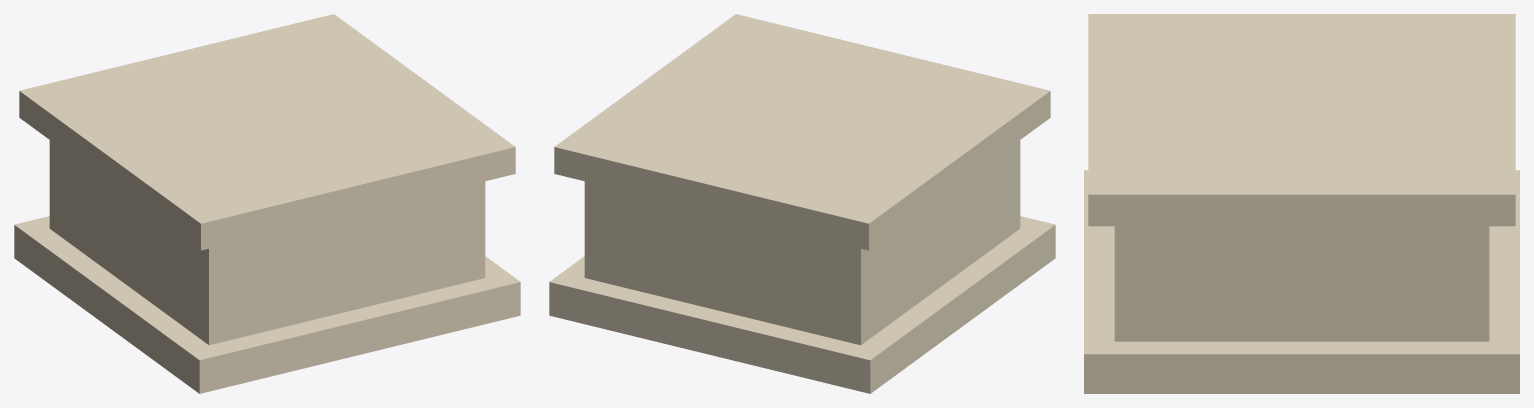
File: legendary-warriors-kit-display-plinth-square-b580367d__39219.glb
3 renders of one model, left to right at view 1: azimuth 30°, elevation 25°; view 2: azimuth 150°, elevation 25°; view 3: azimuth 270°, elevation 25°, orthographic. The views are drawn at different scales.
Parts seen in each view (by area): view 1: display-plinth-square; view 2: display-plinth-square; view 3: display-plinth-square.
Boxes of the visible parts, left/top/right/bottom form: display-plinth-square: left=14, top=14, right=520, bottom=393; display-plinth-square: left=549, top=14, right=1055, bottom=393; display-plinth-square: left=1084, top=14, right=1519, bottom=393.
Bounding box in the file's own units: 1 × 0.5001 × 1.
